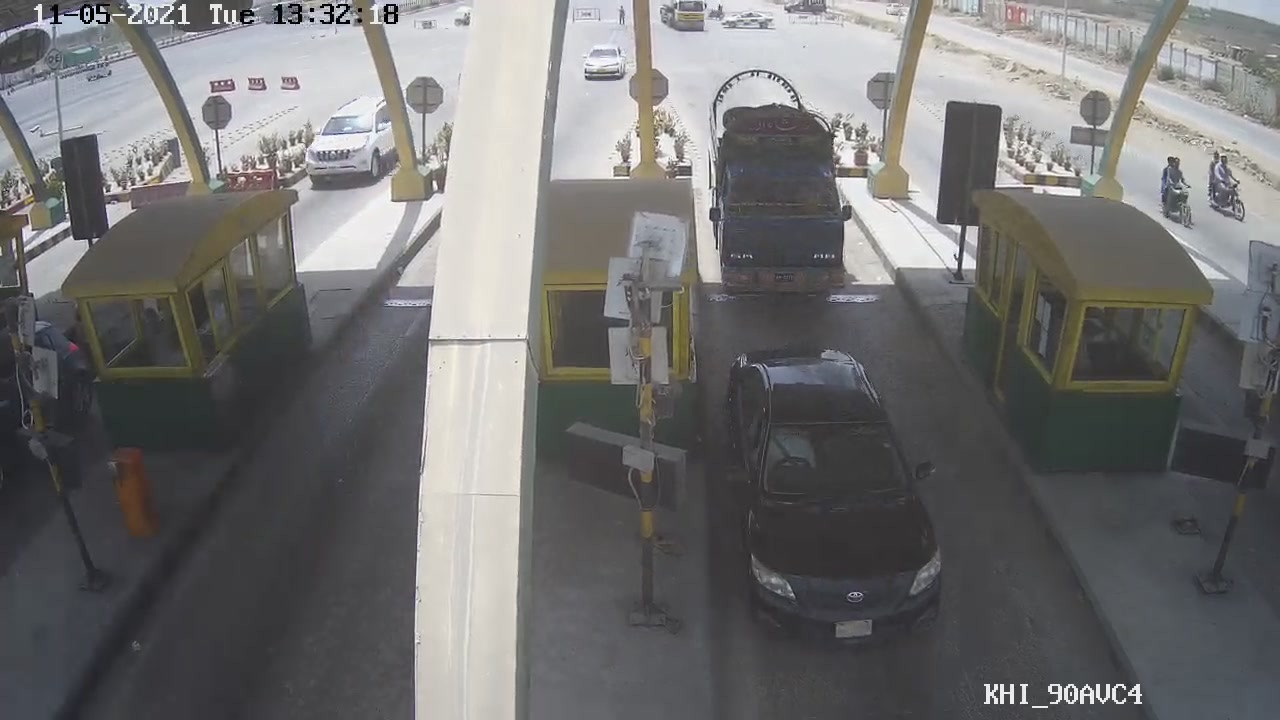F1: (715, 340, 949, 655)
F5: (702, 59, 857, 312)
